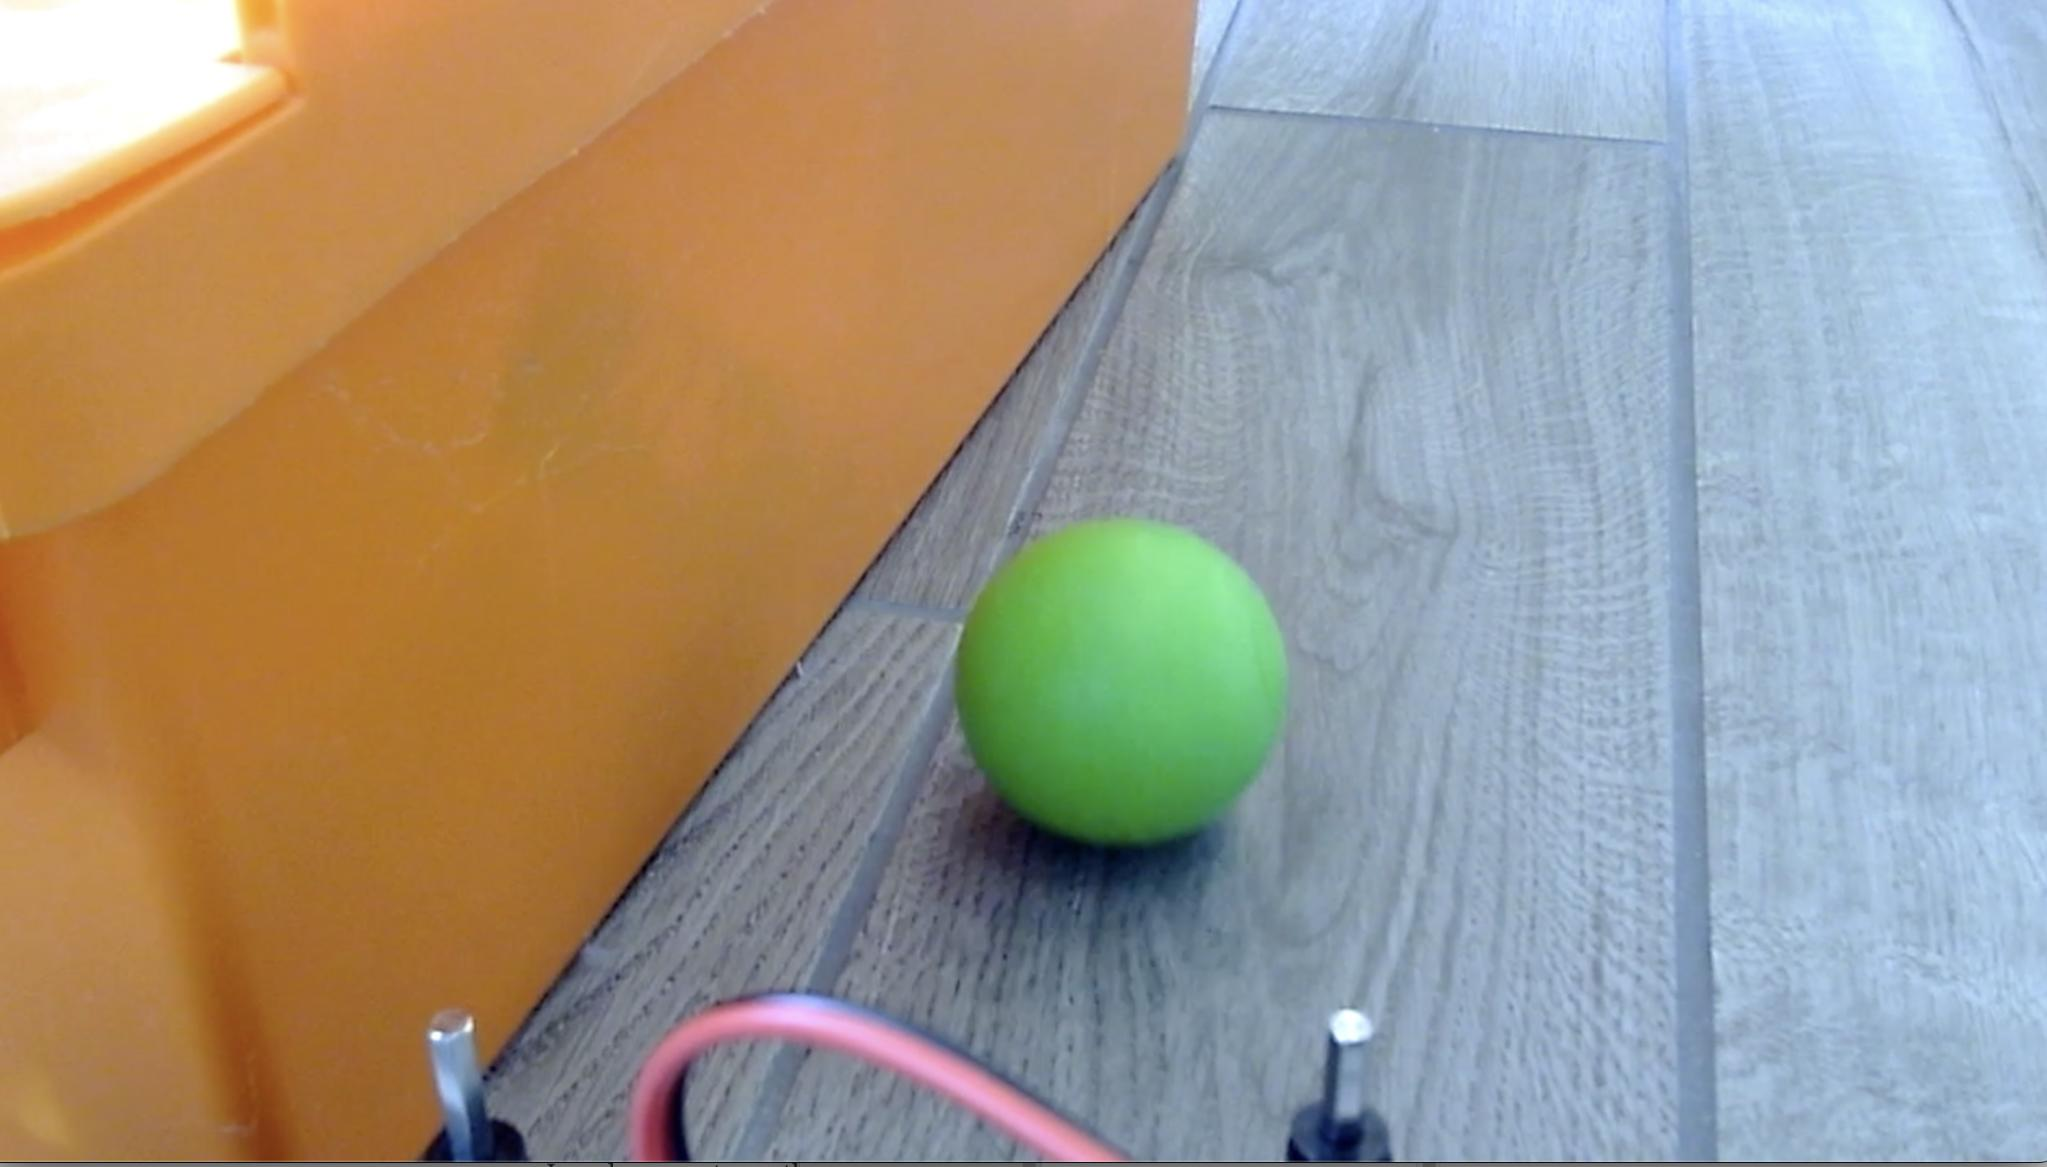Green Ball: (952, 516, 1291, 852)
